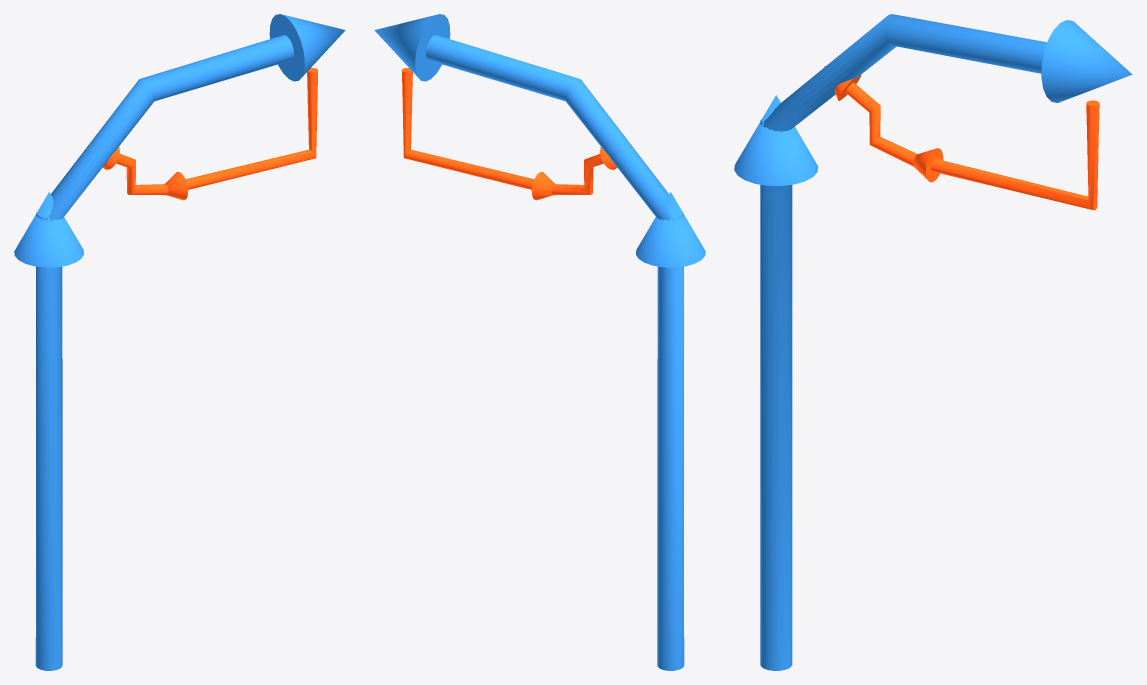
File: wear_ring_flow.glb
The picture shows the model from 3 angles, left to right: view 1: azimuth 30°, elevation 25°; view 2: azimuth 150°, elevation 25°; view 3: azimuth 330°, elevation 25°; orthographic projection. The views are drawn at different scales.
Parts seen in each view (by area): view 1: main_flow, leakage; view 2: main_flow, leakage; view 3: main_flow, leakage.
Boxes of the visible parts, x1=… form: main_flow: x1=14, y1=14, x2=345, y2=670; leakage: x1=89, y1=68, x2=318, y2=200; main_flow: x1=374, y1=14, x2=705, y2=670; leakage: x1=402, y1=68, x2=630, y2=200; main_flow: x1=734, y1=14, x2=1132, y2=670; leakage: x1=824, y1=66, x2=1099, y2=210.
Bounding box in the file's own units: 0.1676 × 0.2896 × 0.0312.
